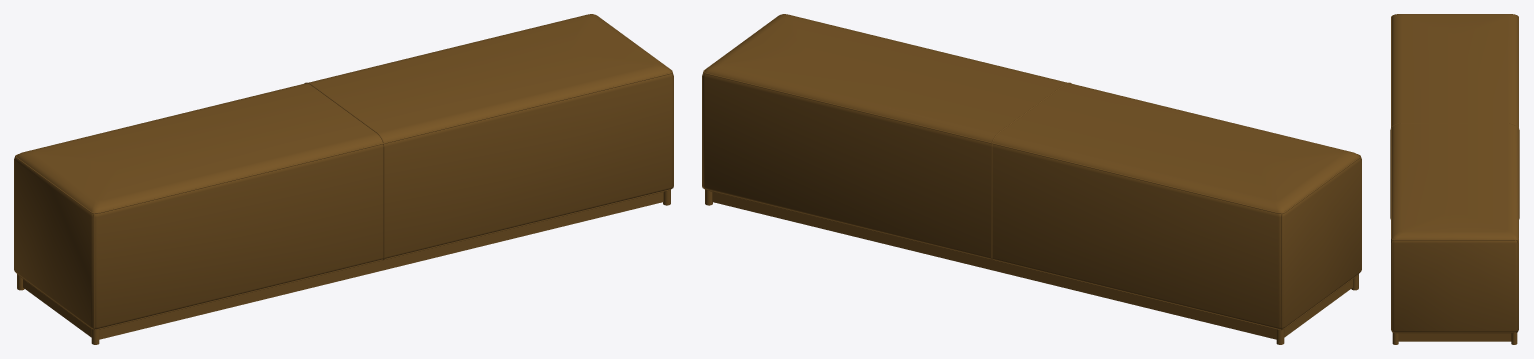
Rendered from Bank.fbx.
The picture shows the model from 3 angles, left to right: view 1: azimuth 30°, elevation 25°; view 2: azimuth 150°, elevation 25°; view 3: azimuth 270°, elevation 25°; orthographic projection. The views are drawn at different scales.
Parts seen in each view (by area): view 1: SM_Bank; view 2: SM_Bank; view 3: SM_Bank.
Boxes of the visible parts, box(x1,y1,x2,y2) form: SM_Bank: box(14, 14, 673, 344); SM_Bank: box(702, 14, 1361, 344); SM_Bank: box(1390, 14, 1519, 344).
Size of the model in its own units: 200 by 45.4 by 48.4.
